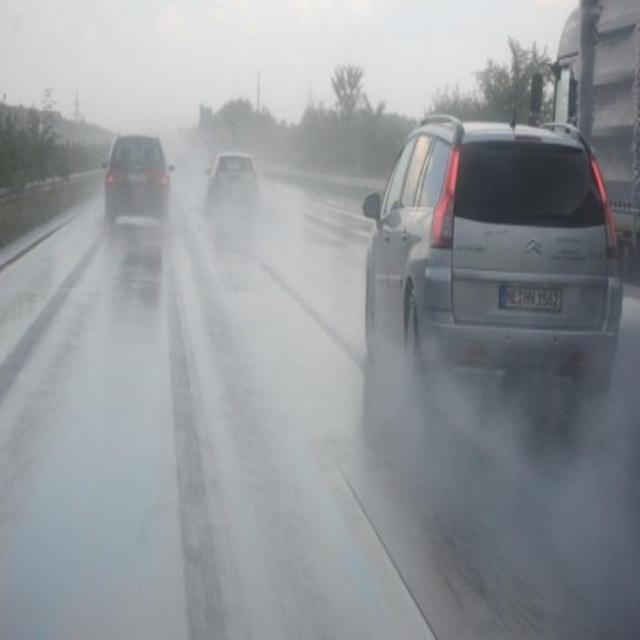Car: (345, 83, 632, 448), (75, 118, 182, 260), (195, 117, 286, 243)
